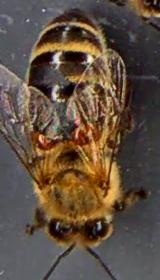varroa_mite: (66, 116, 94, 146), (23, 120, 49, 152)
